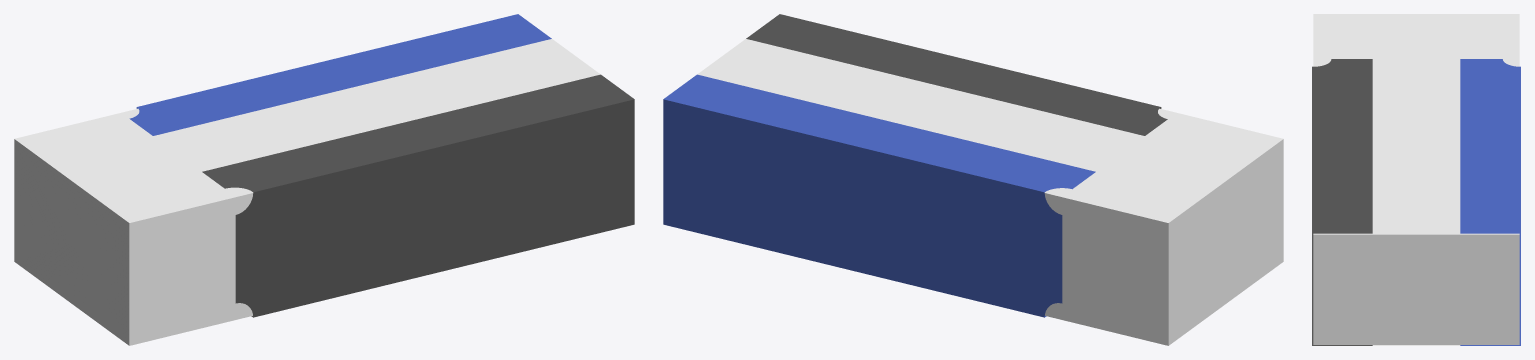
The model's file is erasel.glb.
3 renders of one model, left to right at view 1: azimuth 30°, elevation 25°; view 2: azimuth 150°, elevation 25°; view 3: azimuth 270°, elevation 25°, orthographic. The views are drawn at different scales.
Visible parts, largest first — view 1: ケース, body; view 2: ケース, body; view 3: ケース, body.
Boxes of the visible parts, x1,y1,x2,y2 form: ケース: (129, 14, 634, 317); body: (14, 108, 253, 345); ケース: (663, 14, 1167, 317); body: (1044, 108, 1283, 345); ケース: (1312, 59, 1520, 345); body: (1313, 14, 1519, 344).
Size of the model in its own units: 0.043 by 0.0102 by 0.0172.
